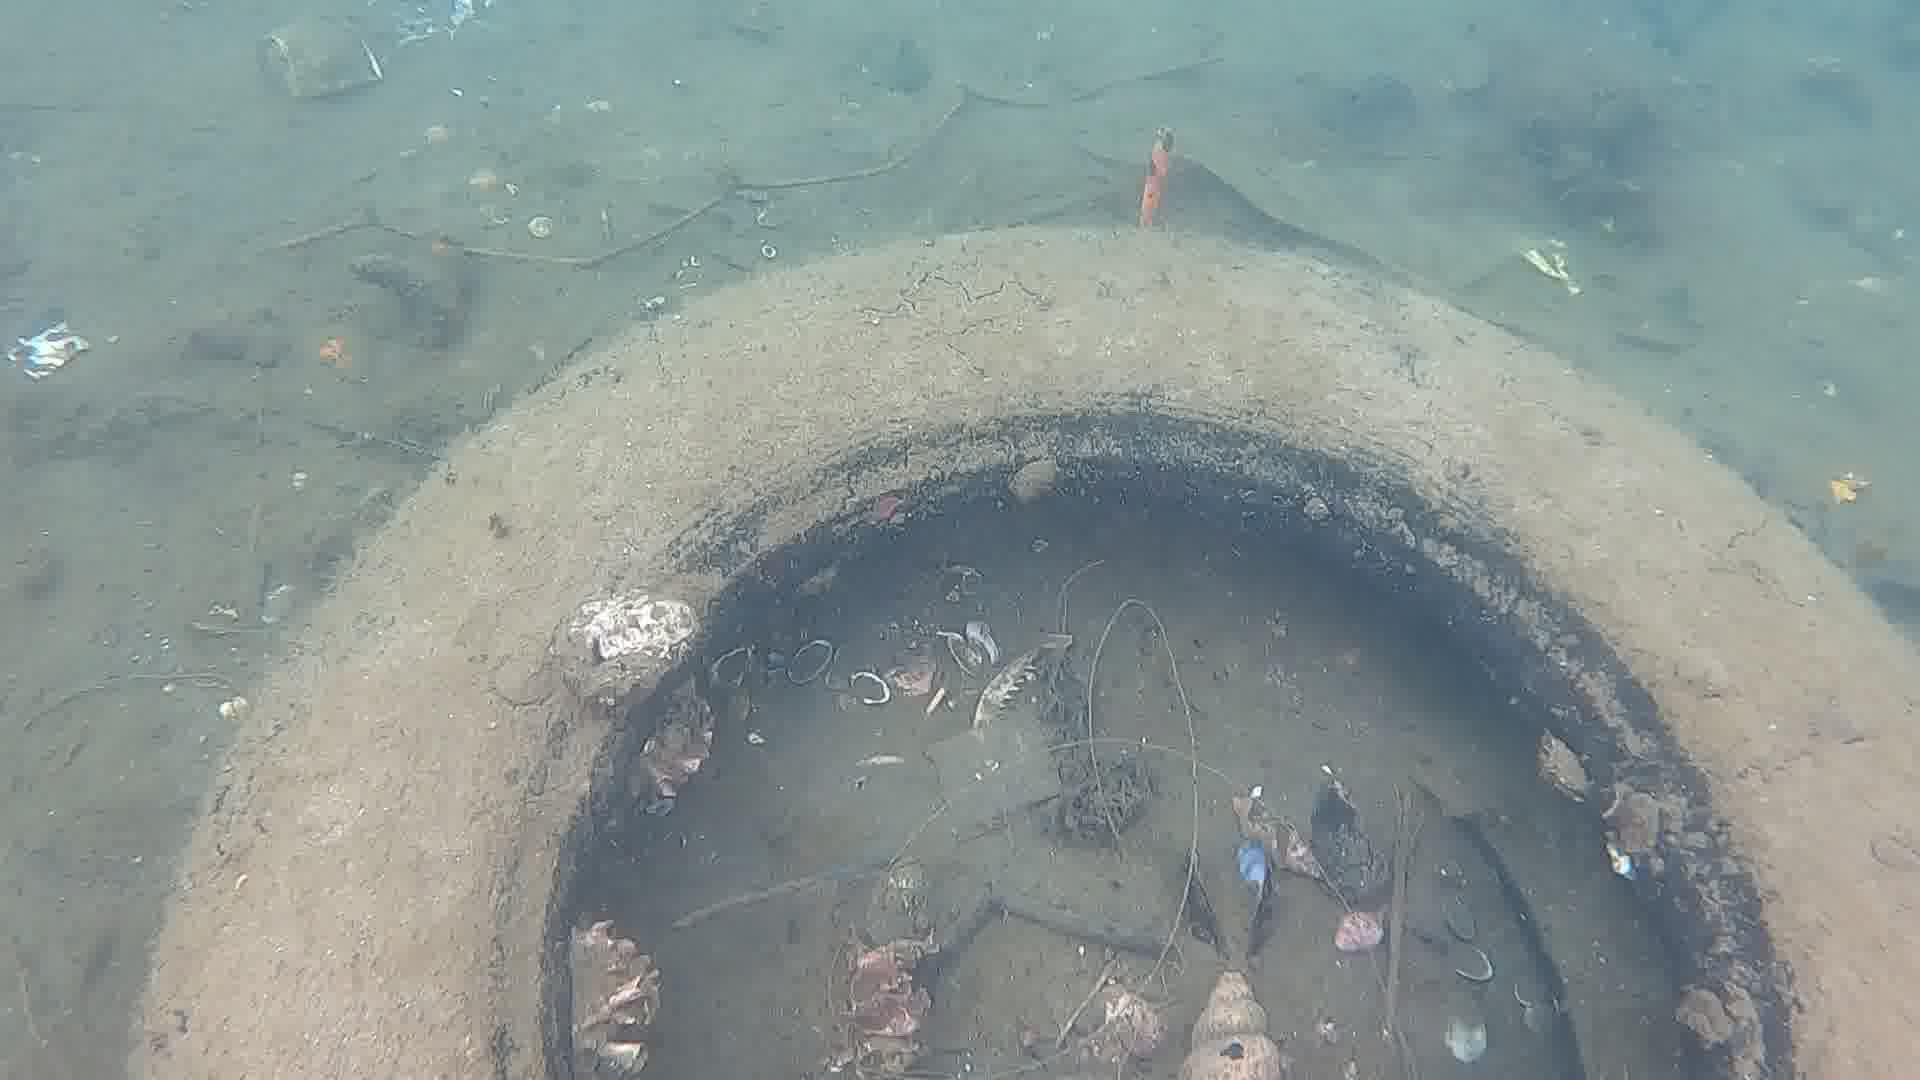tire: (115, 219, 1920, 1080)
